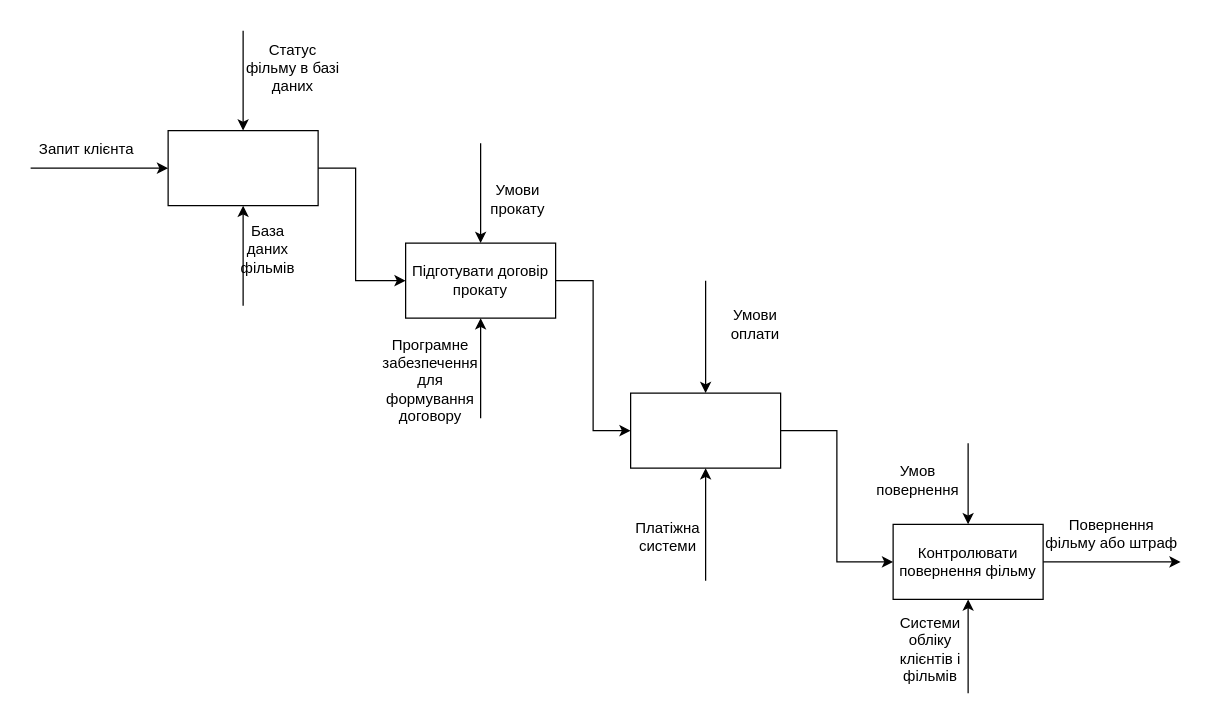
Some shapes in this 1213 by 725 pixel diagram are drawn without their labels. Each missing label, with the centre of its shape:
"Оформити транзакцію" belongs at [705,430].
"Перевірити доступність фільму" belongs at [242,167].
